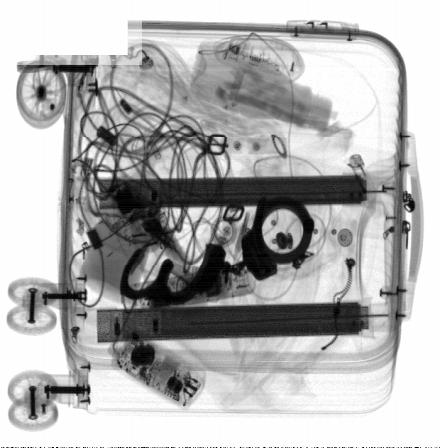Baton: (122, 260, 257, 315)
HandCuffs: (119, 194, 317, 307)
Lighter: (343, 154, 386, 217)
